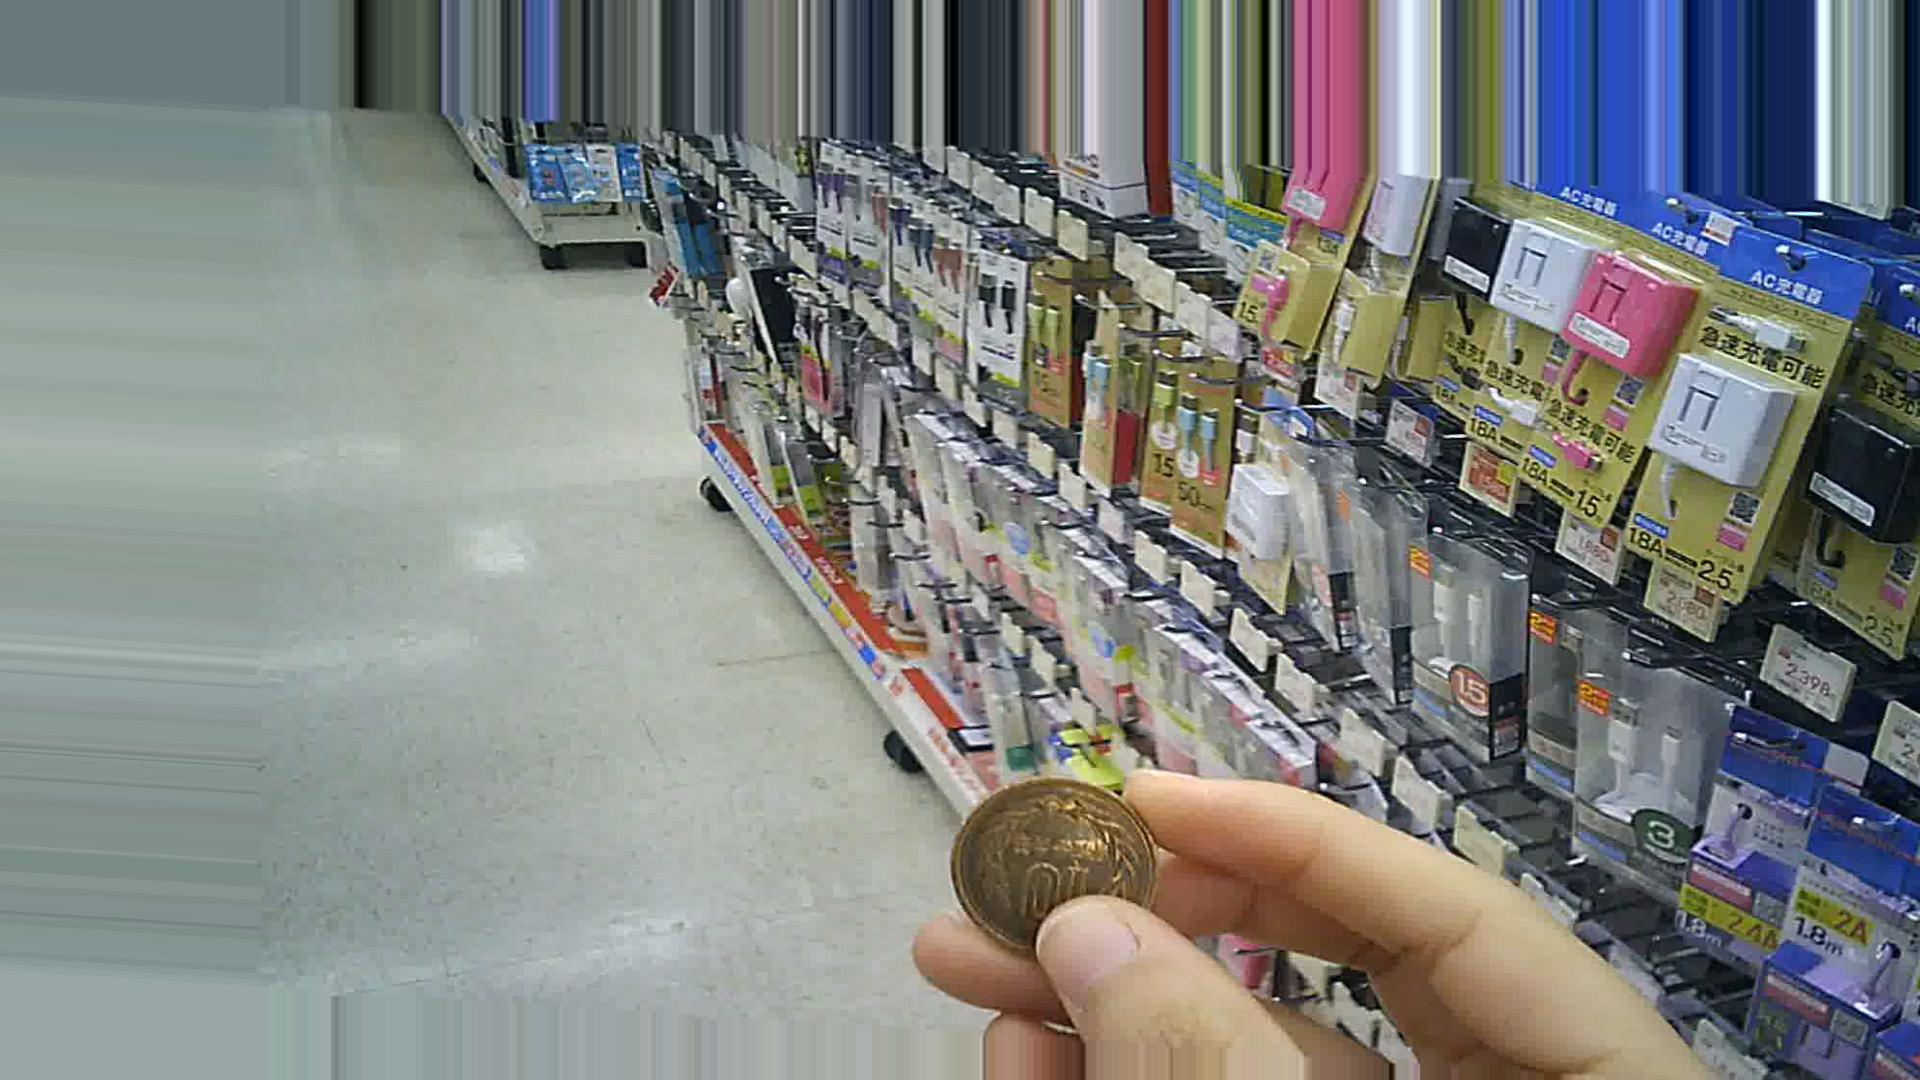10 Yen: (942, 766, 1167, 947)
